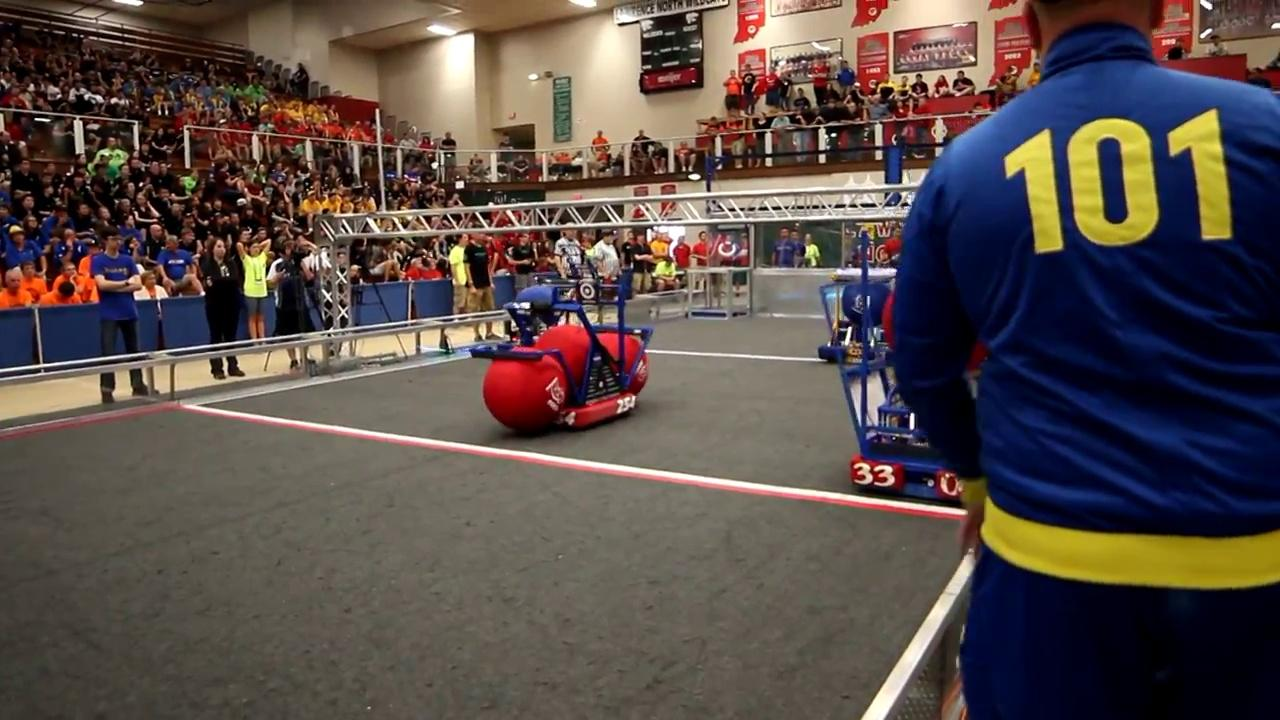robot: (823, 270, 1014, 504), (468, 280, 654, 434)
